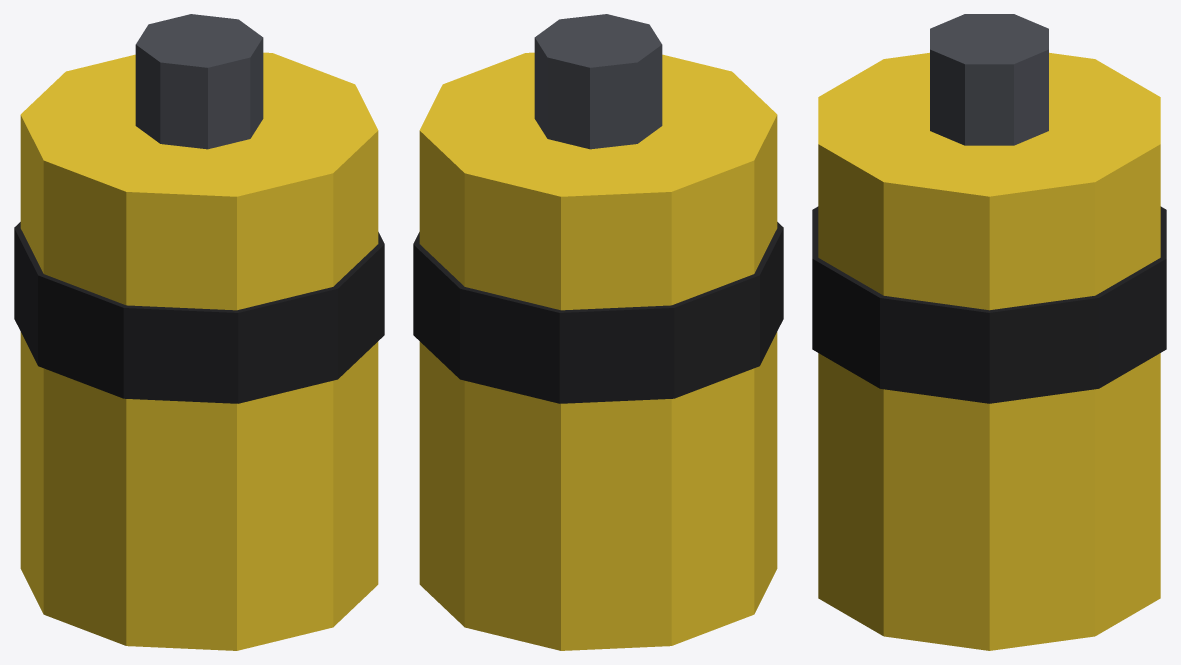
Rendered from sulfuric_acid.glb.
3 views of the same model, side by side, from view 1: azimuth 30°, elevation 25°; view 2: azimuth 150°, elevation 25°; view 3: azimuth 270°, elevation 25° (orthographic).
Parts seen in each view (by area): view 1: sulfuric_acid; view 2: sulfuric_acid; view 3: sulfuric_acid.
Boxes of the visible parts, x1,y1,x2,y2 form: sulfuric_acid: [14, 14, 384, 650]; sulfuric_acid: [413, 14, 783, 650]; sulfuric_acid: [812, 14, 1166, 650].
Bounding box in the file's own units: 0.58 × 0.92 × 0.5516.
